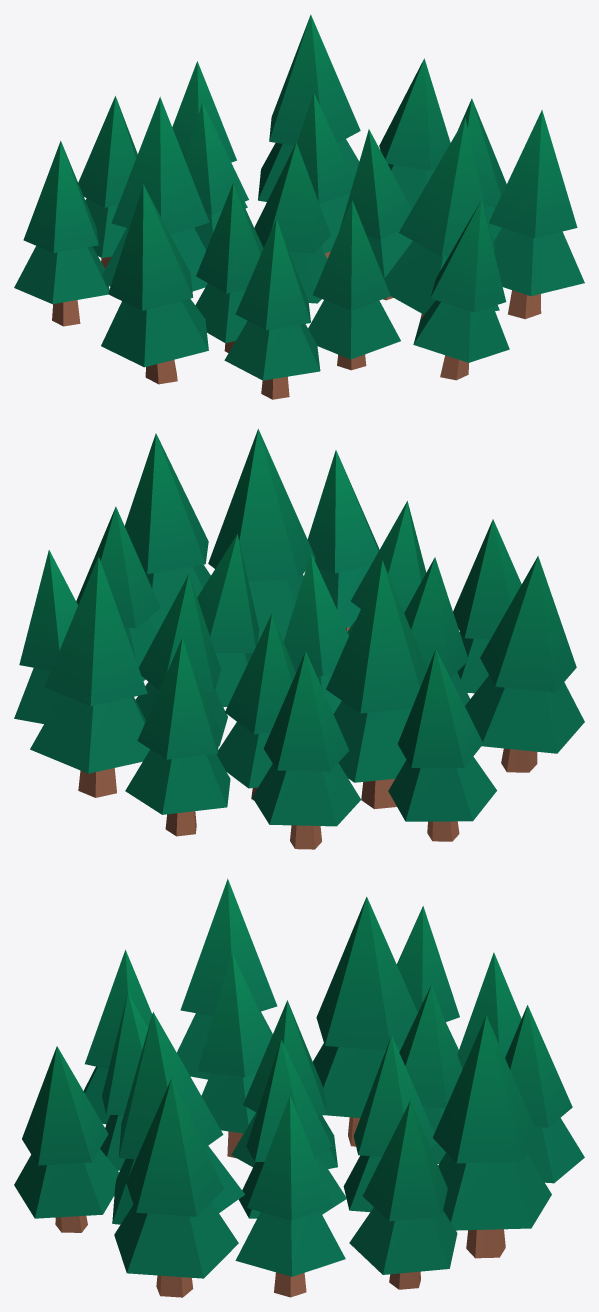
File: trees_A_large.gltf
The picture shows the model from 3 angles, top to bottom: view 1: azimuth 30°, elevation 25°; view 2: azimuth 150°, elevation 25°; view 3: azimuth 270°, elevation 25°; orthographic projection. The views are drawn at different scales.
Parts seen in each view (by area): view 1: trees_A_large; view 2: trees_A_large; view 3: trees_A_large.
Part boxes in pixels (x1,y1,x2,y2): trees_A_large: [14, 14, 584, 399]; trees_A_large: [14, 429, 584, 849]; trees_A_large: [14, 878, 584, 1297].
Bounding box in the file's own units: 1.95 × 0.9265 × 1.97.
Materials: 1 (1 with a texture image).
